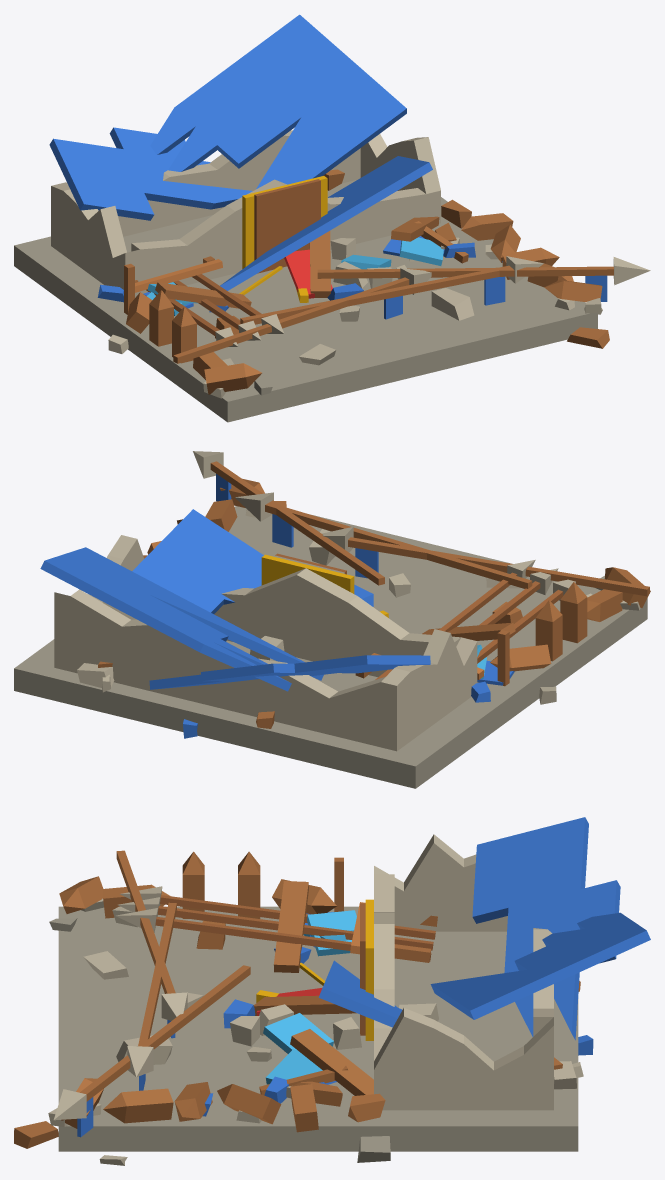
Rendered from barracks_t3_v1_dmg2.glb.
The picture shows the model from 3 angles, top to bottom: view 1: azimuth 30°, elevation 25°; view 2: azimuth 150°, elevation 25°; view 3: azimuth 270°, elevation 25°; orthographic projection. The views are drawn at different scales.
Parts seen in each view (by area): view 1: barracks_t3_v1_dmg2; view 2: barracks_t3_v1_dmg2; view 3: barracks_t3_v1_dmg2.
Boxes of the visible parts, left/top/right/bottom form: barracks_t3_v1_dmg2: left=14, top=14, right=650, bottom=422; barracks_t3_v1_dmg2: left=14, top=451, right=650, bottom=788; barracks_t3_v1_dmg2: left=14, top=817, right=650, bottom=1165.
Bounding box in the file's own units: 0.9081 × 0.299 × 0.9193.
1 material, 1 textured.
